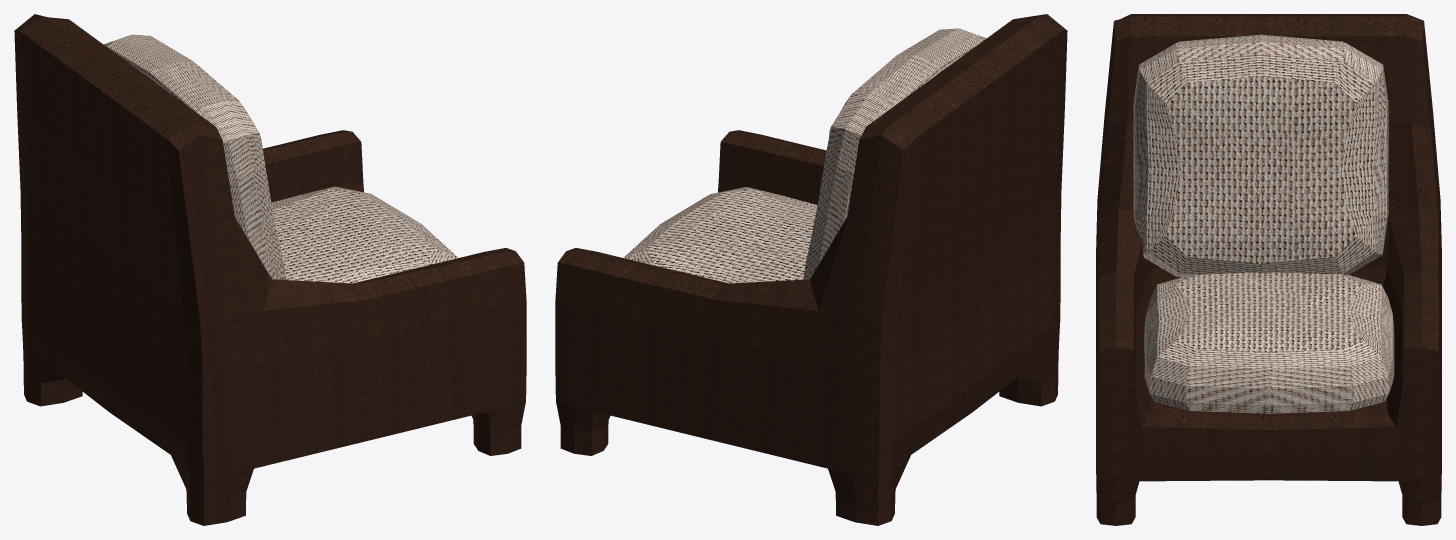
The model's file is seat 1.glb.
3 views of the same model, side by side, from view 1: azimuth 30°, elevation 25°; view 2: azimuth 150°, elevation 25°; view 3: azimuth 270°, elevation 25° (orthographic). The views are drawn at different scales.
Parts seen in each view (by area): view 1: SEAT; view 2: SEAT; view 3: SEAT.
Part boxes in pixels (x1,y1,x2,y2): SEAT: (14, 14, 526, 525); SEAT: (555, 14, 1067, 525); SEAT: (1096, 14, 1441, 525).
Size of the model in its own units: 1.52 by 1.65 by 1.42.
2 materials, 2 textured.
